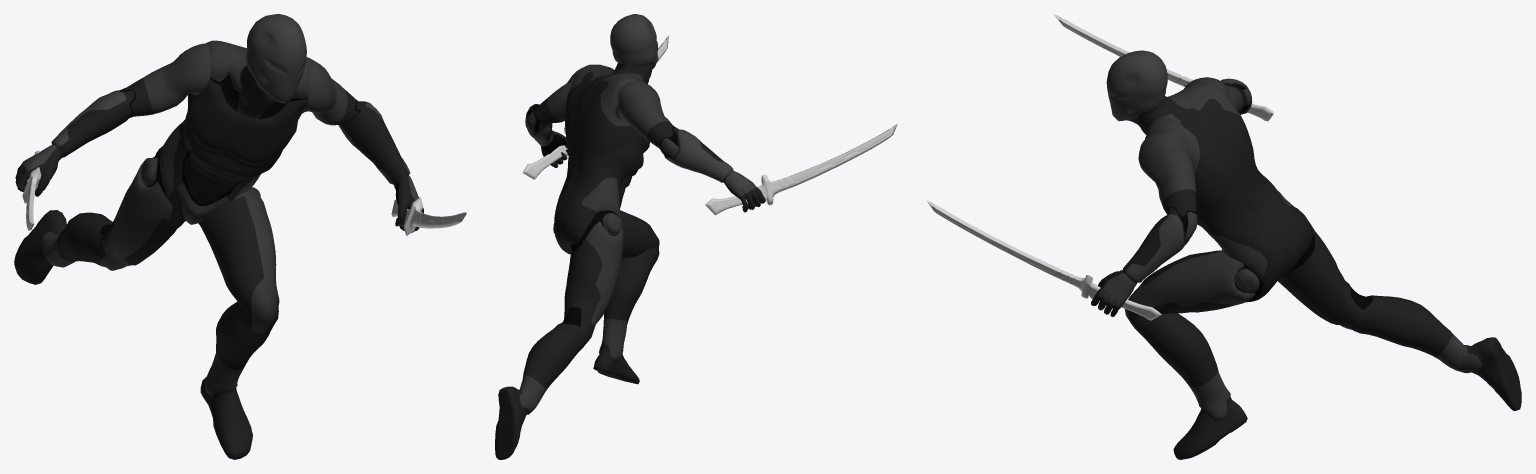
3 renders of one model, left to right at view 1: azimuth 30°, elevation 25°; view 2: azimuth 150°, elevation 25°; view 3: azimuth 270°, elevation 25°, orthographic. The views are drawn at different scales.
Visible parts, largest first — view 1: Cyborg_Ninja_Killer, Sword_l, Sword_l001; view 2: Cyborg_Ninja_Killer, Sword_l001, Sword_l; view 3: Cyborg_Ninja_Killer, Sword_l, Sword_l001.
Part boxes in pixels (bbox=[...]): Cyborg_Ninja_Killer: bbox=[14, 14, 423, 459]; Sword_l: bbox=[391, 197, 466, 235]; Sword_l001: bbox=[22, 150, 41, 230]; Cyborg_Ninja_Killer: bbox=[495, 14, 765, 459]; Sword_l001: bbox=[705, 123, 897, 215]; Sword_l: bbox=[522, 35, 668, 179]; Cyborg_Ninja_Killer: bbox=[1091, 50, 1521, 459]; Sword_l: bbox=[926, 200, 1161, 320]; Sword_l001: bbox=[1053, 14, 1273, 121].
Size of the model in its own units: 152 by 155 by 203.
